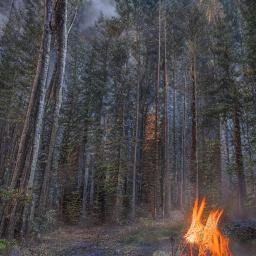Small fire: (174, 198, 234, 256)
